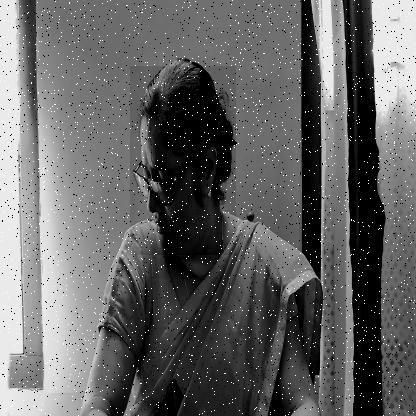Distracted: (130, 66, 236, 255)
